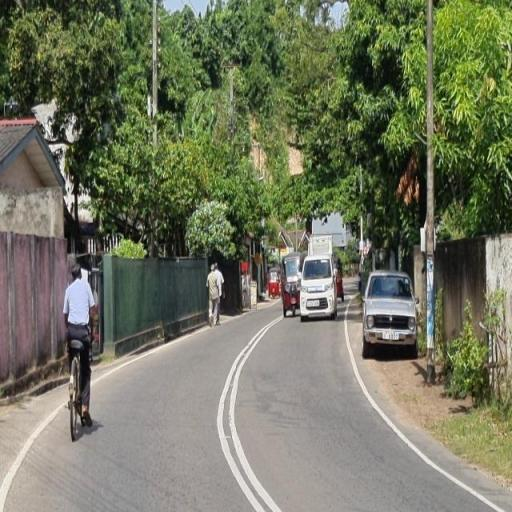double_white_line: (339, 310, 505, 510), (214, 315, 278, 511)
